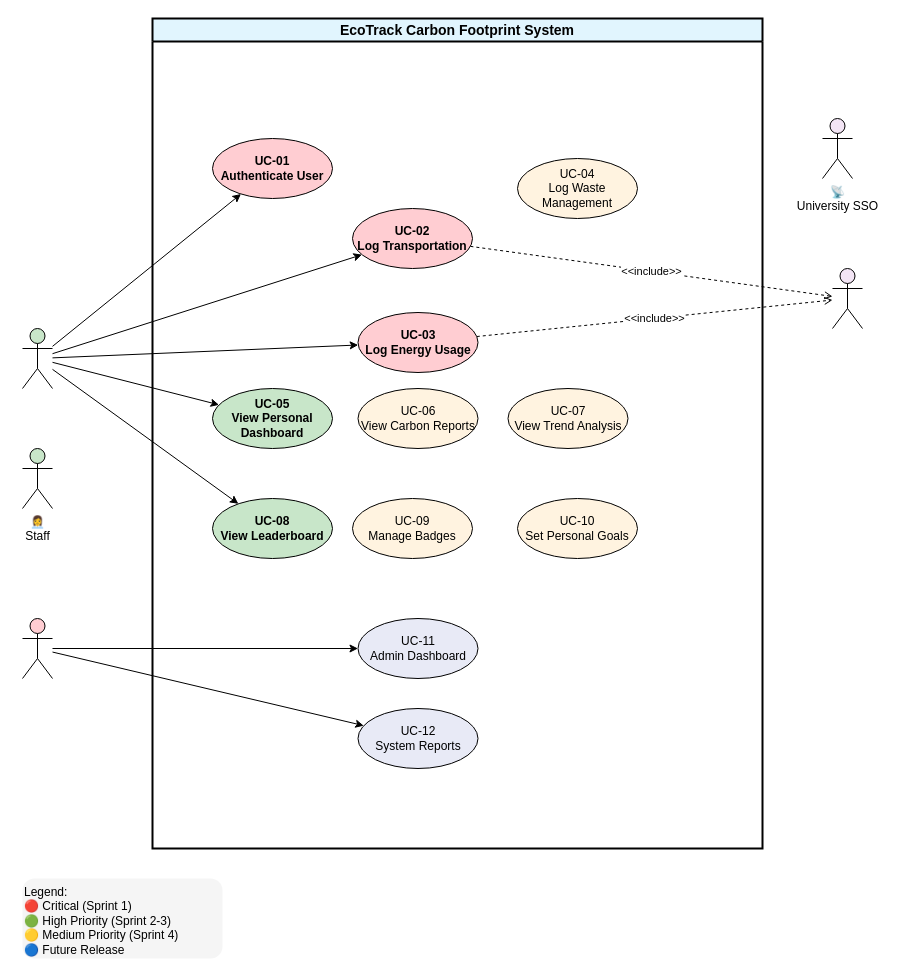
Some shapes in this 915 by 975 pixel diagram are drawn without their labels. The box of each missing label's shape, as (x1, y1, x2, y2) in pixels:
👨‍🎓 Student: (22, 328, 52, 388)
🔧 Admin: (22, 618, 52, 678)
🧮 Calculation Engine: (832, 268, 862, 328)
